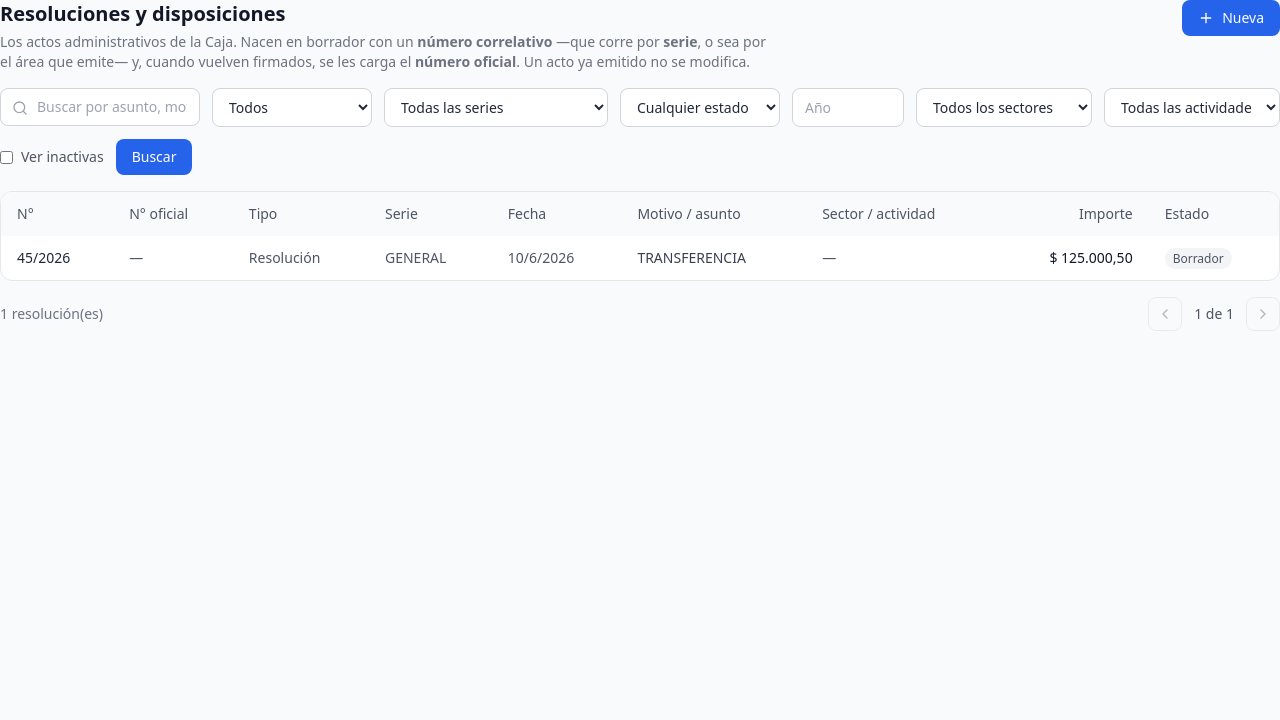
Scenario: resoluciones y disposiciones › muestra los lotes de créditos que otorga y lo disponible
The width and height of the screenshot is (1280, 720).
Click the text "45/2026".
click(57, 258)  # box [1, 236, 113, 280]
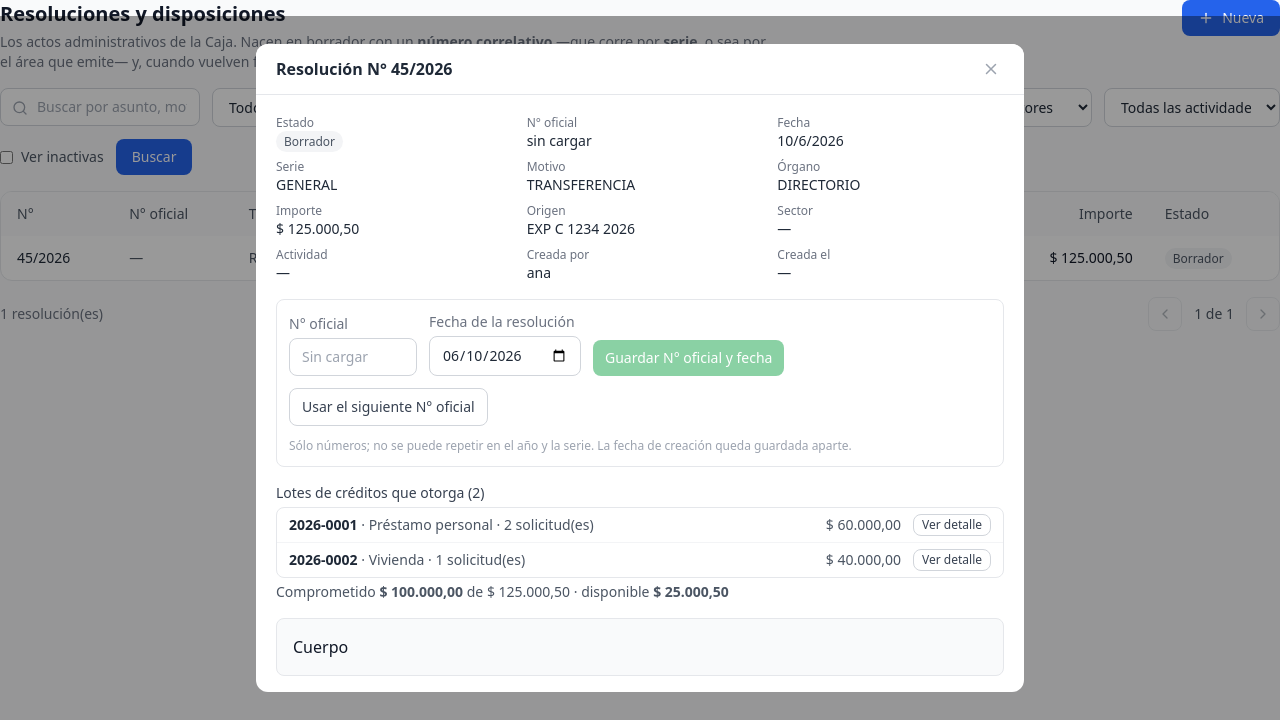
Result: the text "Lotes de créditos que otorga (2)" is shown at [276, 483, 484, 502]
Result: the text "2026-0001" is shown at [289, 515, 358, 534]
Result: the text "25.000,50" is shown at [653, 582, 729, 601]
Click the button with aria-label "Ver detalle de 2026-0002".
click(952, 560)  # box [913, 549, 991, 571]
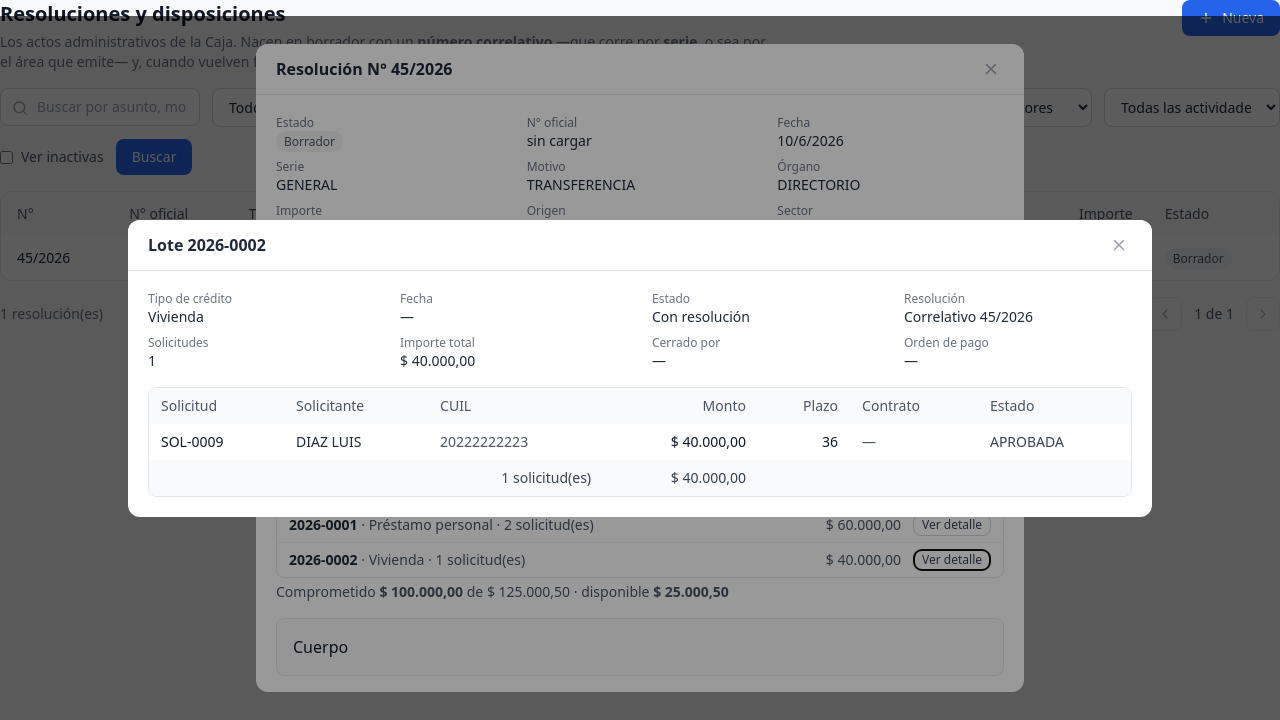
Result: the text "DIAZ LUIS" is shown at [284, 424, 428, 460]
Result: the dialog named "Detalle del lote" shows "Correlativo 45/2026" at [904, 306, 1033, 326]
